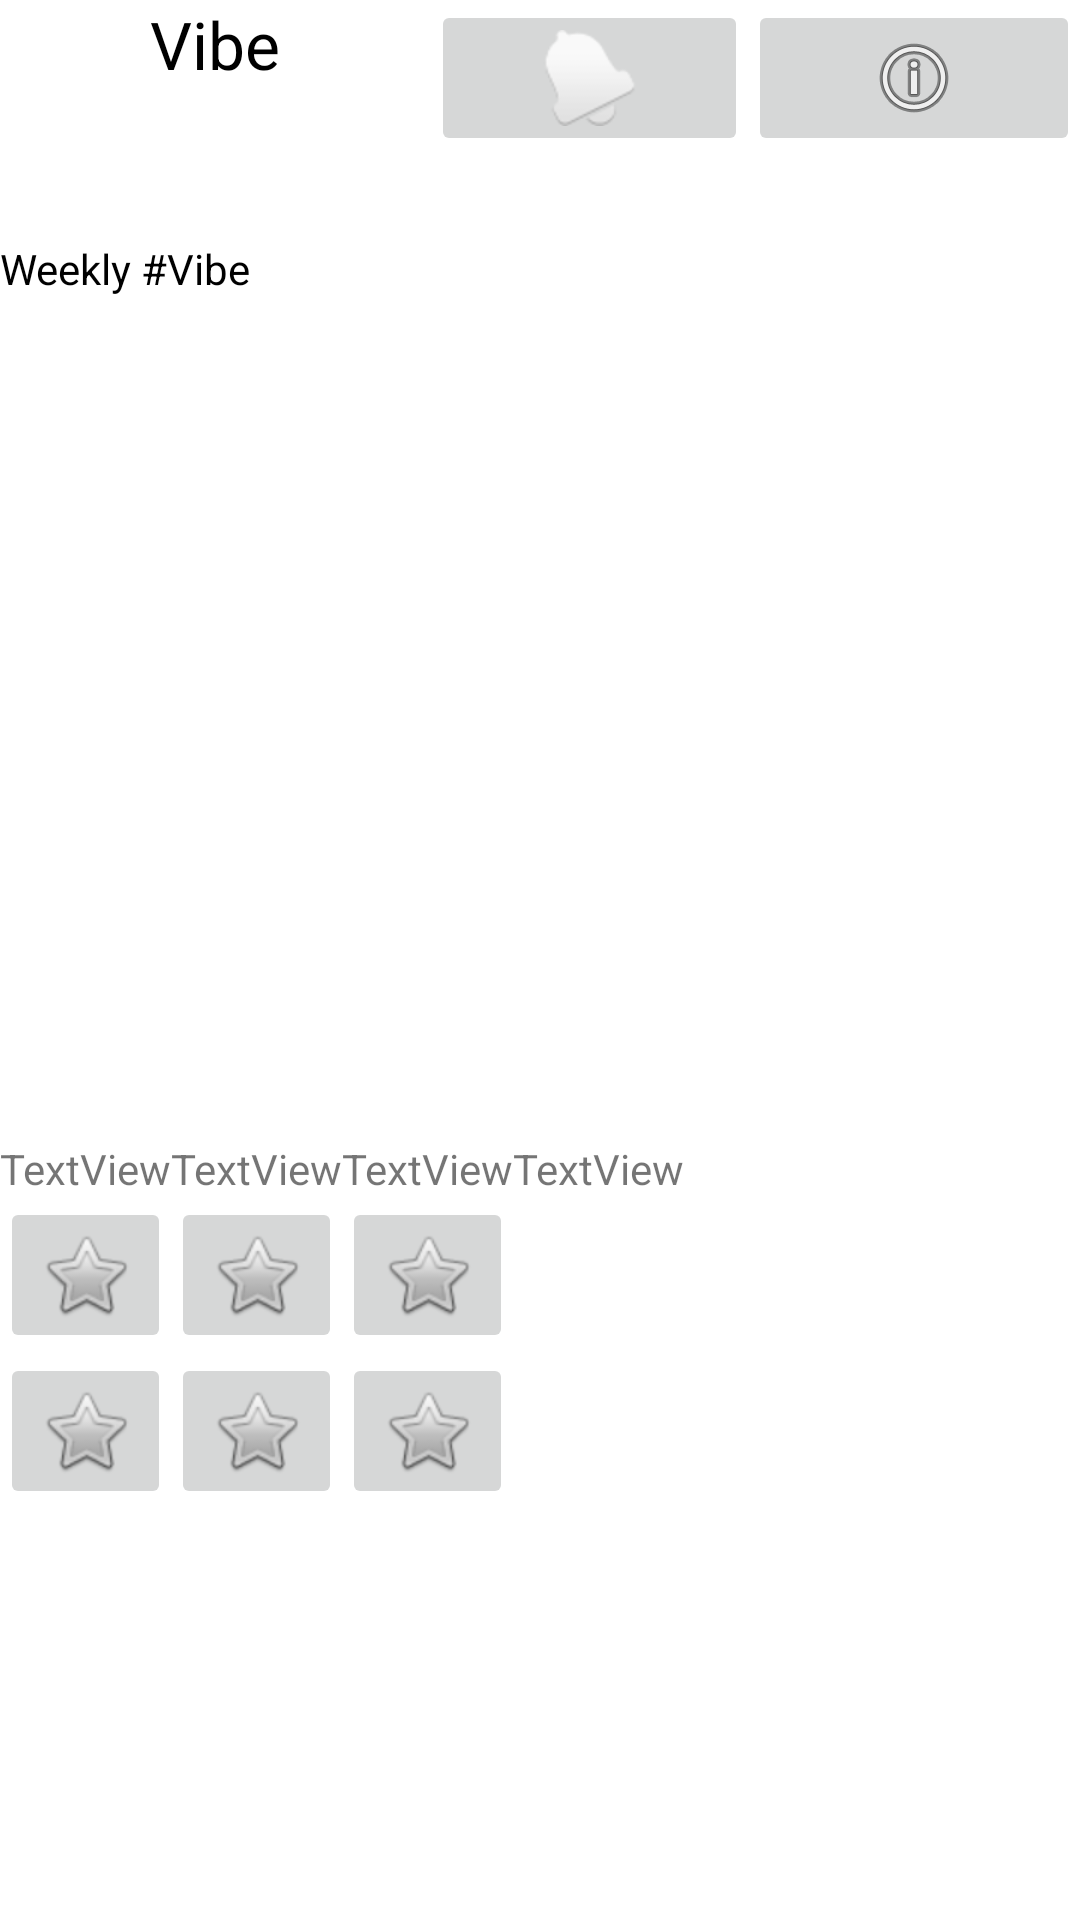

Where icons sit on this 1080×1920 app screen, as (x1, y1, x2, y2):
info details: (760, 18, 1068, 138)
popup reminder: (443, 18, 736, 138)
star: (12, 1215, 159, 1335), (183, 1215, 330, 1335), (354, 1215, 501, 1335), (12, 1371, 159, 1491), (183, 1371, 330, 1491), (354, 1371, 501, 1491)
